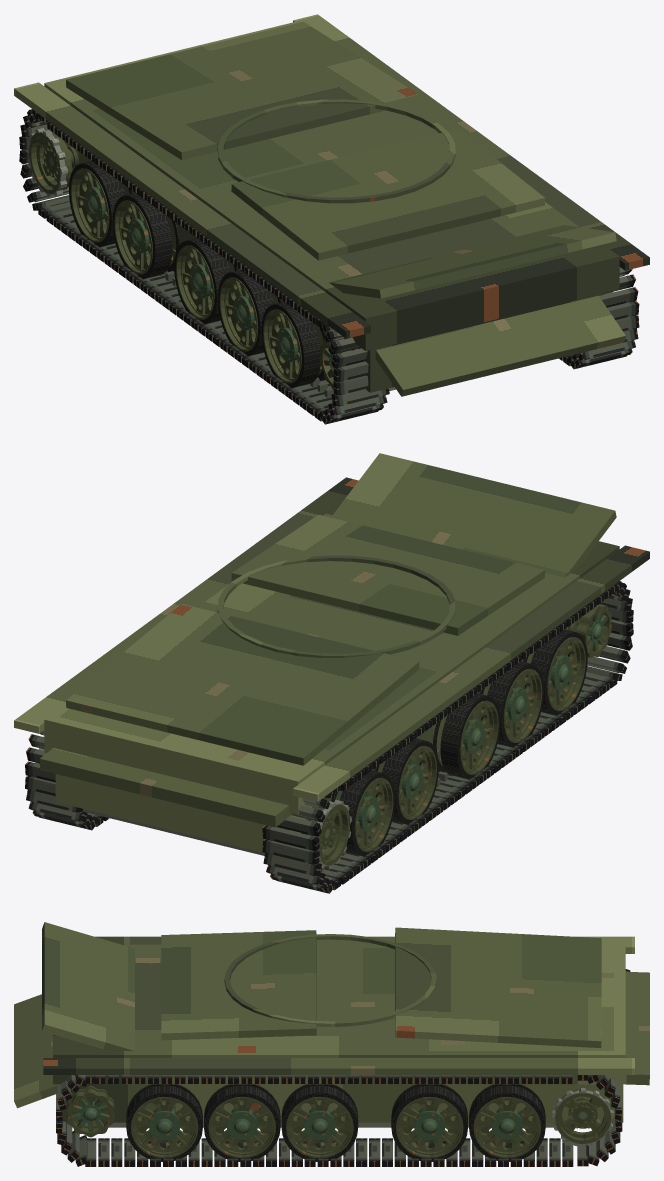
File: t62_lower_preview.glb
3 renders of one model, top to bottom at view 1: azimuth 30°, elevation 25°; view 2: azimuth 150°, elevation 25°; view 3: azimuth 270°, elevation 25°, orthographic. The views are drawn at different scales.
Visible parts, largest first — view 1: HullTub_upper_sponson, Engine_deck, Front_driver_deck, TrackL_mesh, Lower_front_plate, Fender_L_blockout, Glacis_upper_front_plate, Fender_R_blockout, TurretRing_marker, TrackL_mesh.001, tire_in.003, tire_in (+15 smaller); view 2: Engine_deck, HullTub_upper_sponson, Front_driver_deck, Glacis_upper_front_plate, TrackL_mesh, Fender_L_blockout, HullTub_lower_vana, Rear_plate, Fender_R_blockout, TurretRing_marker, TrackL_mesh.001, tire_in.002 (+12 smaller); view 3: HullTub_upper_sponson, Engine_deck, Front_driver_deck, TrackL_mesh.001, Glacis_upper_front_plate, Fender_R_blockout, HullTub_lower_vana, Lower_front_plate, TurretRing_marker, Rear_plate, tire_out.007, tire_out.006 (+31 smaller).
Part boxes in pixels (left/top/right/bottom): HullTub_upper_sponson: left=44, top=21, right=619, bottom=350; Engine_deck: left=66, top=21, right=419, bottom=159; Front_driver_deck: left=231, top=128, right=545, bottom=260; TrackL_mesh: left=19, top=109, right=389, bottom=424; Lower_front_plate: left=375, top=295, right=625, bottom=396; Fender_L_blockout: left=14, top=82, right=370, bottom=338; Glacis_upper_front_plate: left=329, top=225, right=616, bottom=298; Fender_R_blockout: left=293, top=14, right=649, bottom=270; TurretRing_marker: left=217, top=99, right=455, bottom=203; TrackL_mesh.001: left=559, top=267, right=639, bottom=369; tire_in.003: left=112, top=193, right=172, bottom=279; tire_in: left=261, top=302, right=320, bottom=388; Engine_deck: left=66, top=604, right=419, bottom=765; HullTub_upper_sponson: left=44, top=500, right=619, bottom=814; Front_driver_deck: left=231, top=514, right=545, bottom=635; Glacis_upper_front_plate: left=331, top=453, right=616, bottom=577; TrackL_mesh: left=262, top=581, right=633, bottom=893; Fender_L_blockout: left=293, top=545, right=649, bottom=801; HullTub_lower_vana: left=55, top=622, right=578, bottom=852; Rear_plate: left=39, top=748, right=291, bottom=827; Fender_R_blockout: left=14, top=477, right=358, bottom=733; TurretRing_marker: left=217, top=555, right=455, bottom=657; TrackL_mesh.001: left=25, top=730, right=109, bottom=830; tire_in.002: left=440, top=693, right=500, bottom=779; HullTub_upper_sponson: left=53, top=944, right=625, bottom=1084; Engine_deck: left=395, top=927, right=601, bottom=1048; Front_driver_deck: left=161, top=930, right=316, bottom=1040; TrackL_mesh.001: left=56, top=1075, right=622, bottom=1166; Glacis_upper_front_plate: left=42, top=922, right=134, bottom=1050; Fender_R_blockout: left=43, top=1058, right=634, bottom=1074; HullTub_lower_vana: left=63, top=1084, right=623, bottom=1122; Lower_front_plate: left=14, top=994, right=59, bottom=1108; TurretRing_marker: left=224, top=934, right=436, bottom=1027; Rear_plate: left=625, top=971, right=649, bottom=1085; tire_out.007: left=281, top=1085, right=358, bottom=1161; tire_out.006: left=204, top=1085, right=280, bottom=1161.
Size of the model in its own units: 3.3 by 1.53 by 6.72.
Materials: 18 (17 with a texture image).
